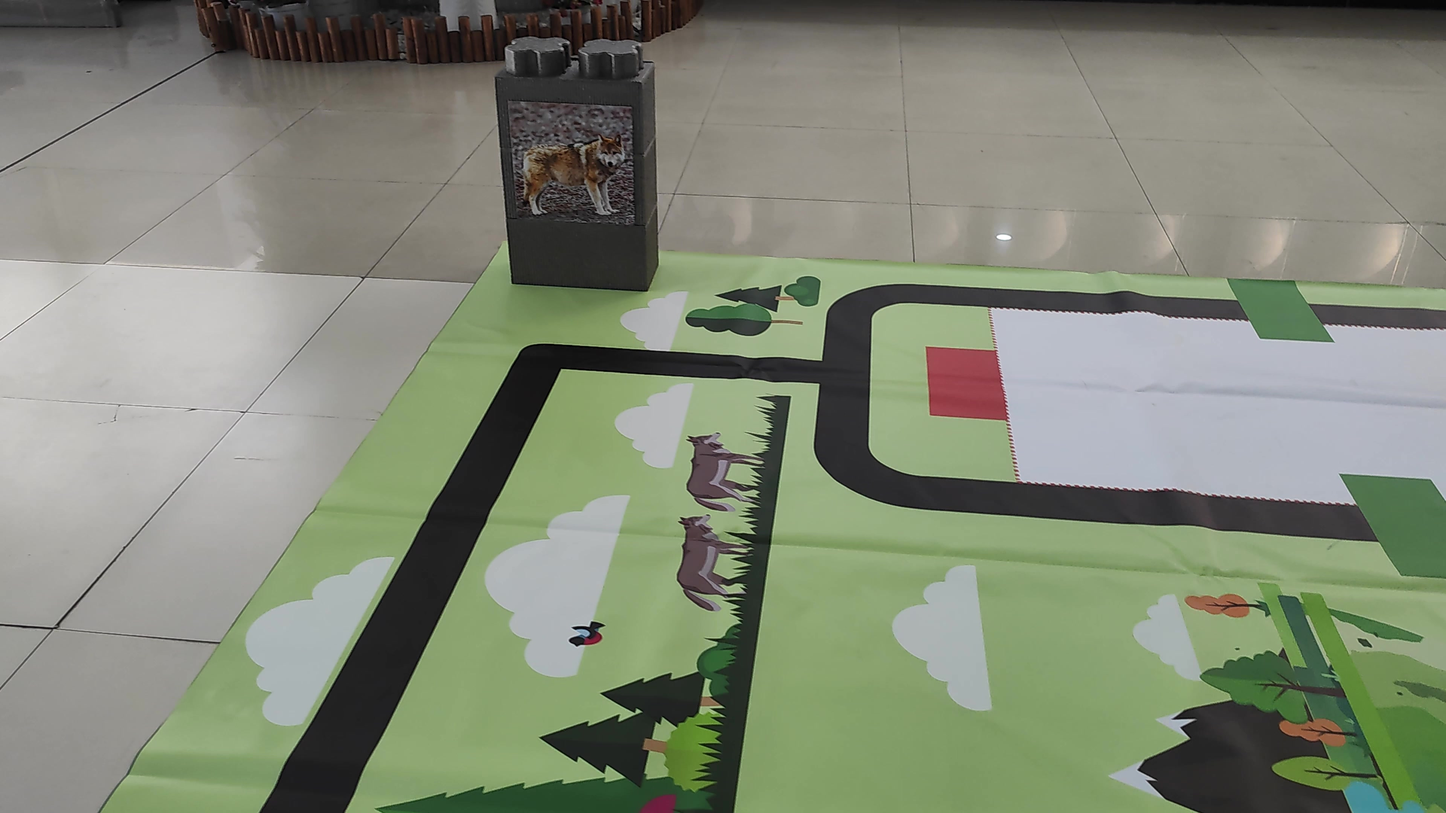wolf: (513, 97, 631, 222)
